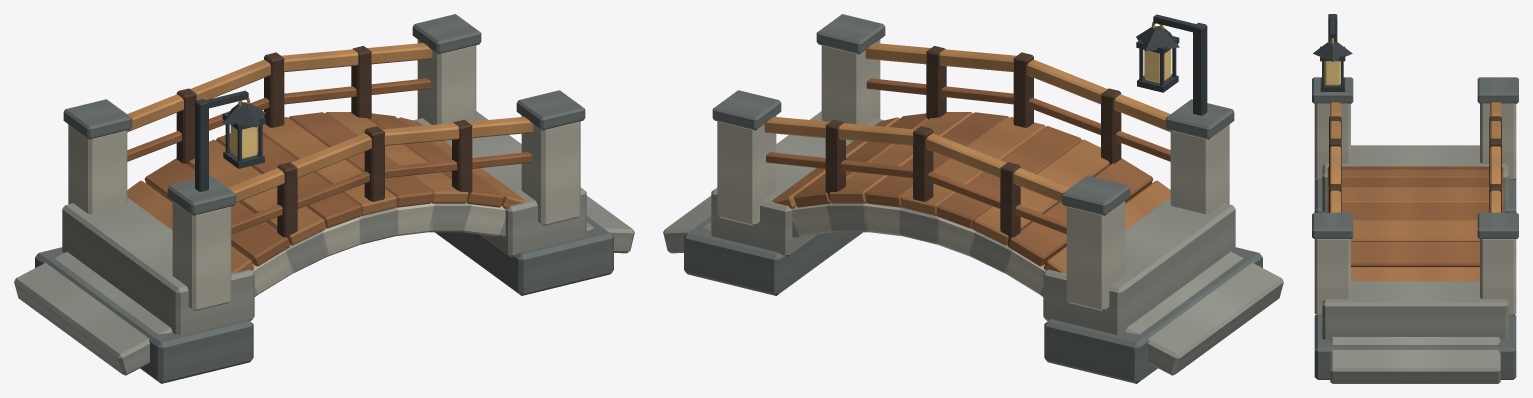
File: stone_footbridge.glb
The picture shows the model from 3 angles, left to right: view 1: azimuth 30°, elevation 25°; view 2: azimuth 150°, elevation 25°; view 3: azimuth 270°, elevation 25°; orthographic projection. The views are drawn at different scales.
Parts seen in each view (by area): view 1: stone_footbridge; view 2: stone_footbridge; view 3: stone_footbridge.
Part boxes in pixels (x1,y1,x2,y2): stone_footbridge: (14, 14, 634, 383); stone_footbridge: (663, 14, 1283, 383); stone_footbridge: (1312, 14, 1518, 383).
Size of the model in its own units: 3.67 by 1.79 by 1.6.
1 material, 1 textured.
